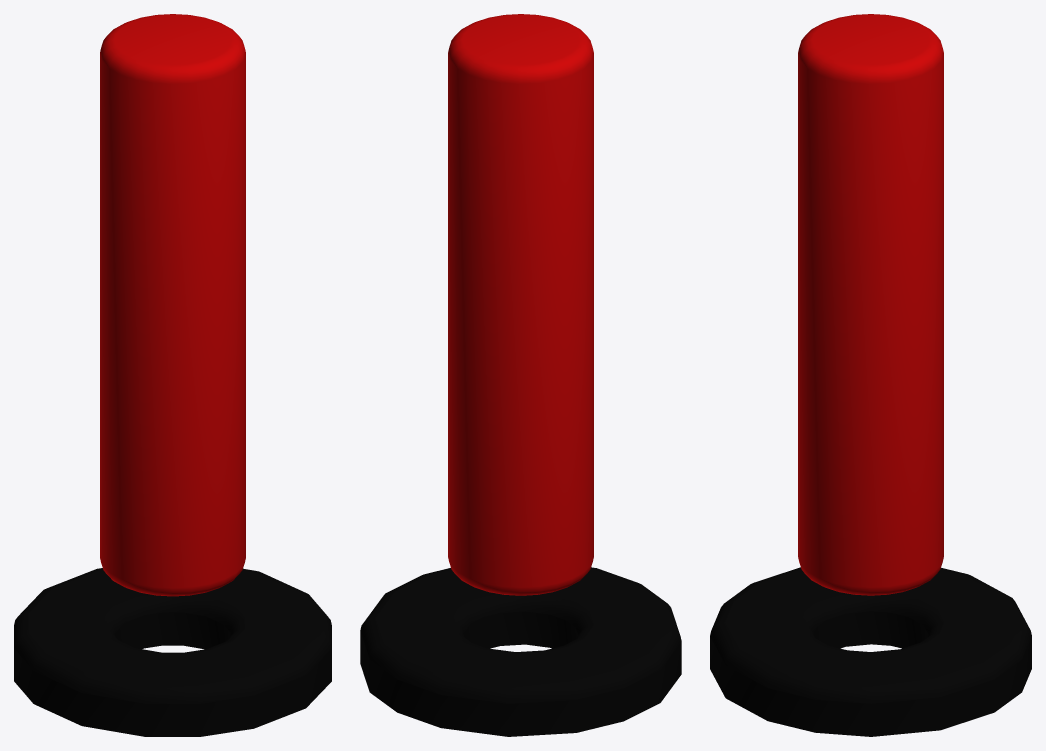
The model's file is ob_Cylinder_hole.fbx.
3 views of the same model, side by side, from view 1: azimuth 30°, elevation 25°; view 2: azimuth 150°, elevation 25°; view 3: azimuth 270°, elevation 25° (orthographic).
Parts seen in each view (by area): view 1: Cylinder, hole; view 2: Cylinder, hole; view 3: Cylinder, hole.
Boxes of the visible parts, x1,y1,x2,y2 form: Cylinder: (100, 14, 245, 596); hole: (14, 568, 331, 736); Cylinder: (448, 14, 593, 595); hole: (360, 567, 681, 736); Cylinder: (798, 14, 943, 595); hole: (710, 567, 1031, 736).
Bounding box in the file's own units: 88.16 × 190 × 88.16.
